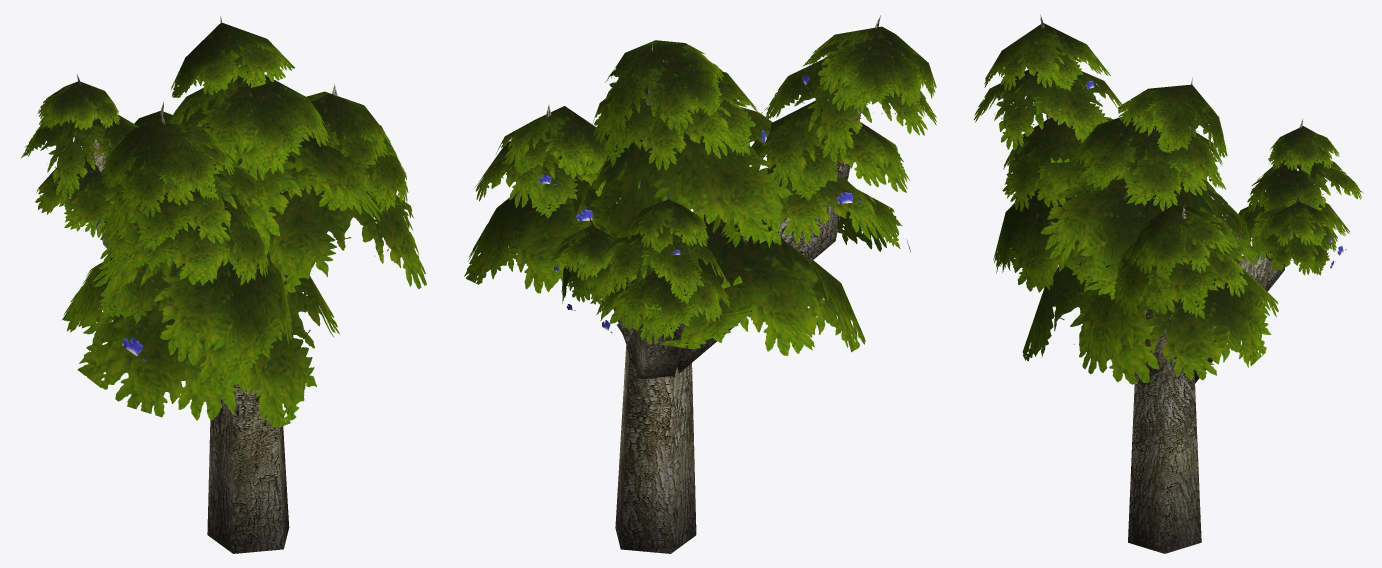
File: Tree_2c_atlas.fbx
3 views of the same model, side by side, from view 1: azimuth 30°, elevation 25°; view 2: azimuth 150°, elevation 25°; view 3: azimuth 270°, elevation 25° (orthographic). The views are drawn at different scales.
Visible parts, largest first — view 1: polySurface97; view 2: polySurface97; view 3: polySurface97.
Part boxes in pixels (bbox=[...]): polySurface97: bbox=[21, 16, 426, 553]; polySurface97: bbox=[464, 15, 936, 553]; polySurface97: bbox=[973, 14, 1362, 553].
Size of the model in its own units: 5.63 by 7.27 by 5.79.
